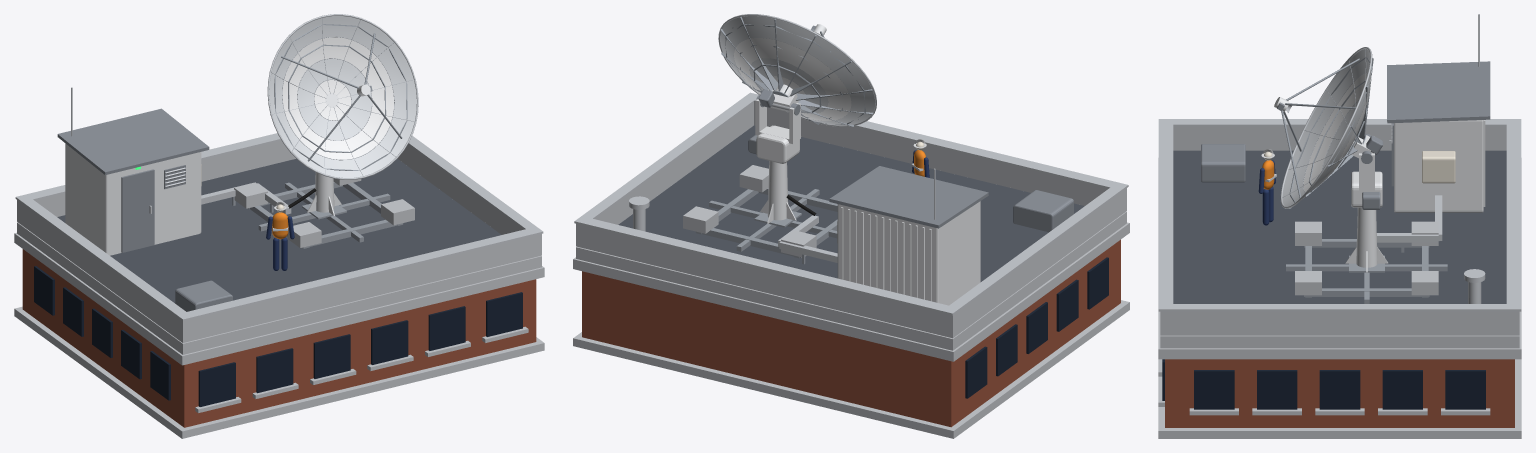
Rendered from ground-small.glb.
3 views of the same model, side by side, from view 1: azimuth 30°, elevation 25°; view 2: azimuth 150°, elevation 25°; view 3: azimuth 270°, elevation 25° (orthographic). The views are drawn at different scales.
Visible parts, largest first — view 1: roof-membrane, building-brick, parapet-concrete, building-concrete, building-window_dark, dish-surface-dish_white_alt, shed-walls, parapet-aluminium, dish-surface-dish_white, roof-slab, shed-roof, shed-door (+9 smaller); view 2: building-brick, parapet-concrete, roof-membrane, building-concrete, parapet-aluminium, shed-walls, roof-slab, dish-surface-dish_white_alt, shed-roof, building-window_dark, dish-surface-dish_white, shed-corrugation (+8 smaller); view 3: roof-membrane, building-brick, parapet-concrete, building-concrete, parapet-aluminium, building-window_dark, shed-walls, shed-roof, roof-slab, dish-surface-dish_white_alt, ballast-mount-steel_grey, ballast-mount-concrete (+11 smaller).
Boxes of the visible parts, x1,y1,x2,y2 form: roof-membrane: [57, 158, 501, 303]; building-brick: [22, 249, 536, 427]; parapet-concrete: [17, 140, 541, 342]; building-concrete: [14, 232, 544, 438]; building-window_dark: [34, 266, 522, 406]; dish-surface-dish_white_alt: [269, 16, 416, 177]; shed-walls: [65, 143, 201, 255]; parapet-aluminium: [15, 133, 543, 321]; dish-surface-dish_white: [282, 37, 394, 159]; roof-slab: [17, 222, 541, 354]; shed-roof: [57, 108, 209, 175]; shed-door: [121, 169, 154, 252]; building-brick: [582, 239, 1120, 427]; parapet-concrete: [576, 102, 1126, 338]; roof-membrane: [618, 125, 1084, 281]; building-concrete: [573, 222, 1129, 438]; parapet-aluminium: [574, 92, 1128, 315]; shed-walls: [837, 201, 980, 305]; roof-slab: [576, 211, 1126, 350]; dish-surface-dish_white_alt: [720, 16, 875, 125]; shed-roof: [829, 166, 988, 228]; building-window_dark: [965, 257, 1108, 398]; dish-surface-dish_white: [734, 38, 851, 120]; shed-corrugation: [841, 207, 931, 301]; roof-membrane: [1173, 150, 1506, 303]; building-brick: [1165, 359, 1514, 427]; parapet-concrete: [1160, 126, 1519, 335]; building-concrete: [1158, 158, 1521, 438]; parapet-aluminium: [1158, 119, 1521, 311]; building-window_dark: [1162, 359, 1485, 409]; shed-walls: [1394, 120, 1483, 212]; shed-roof: [1387, 61, 1490, 123]; roof-slab: [1160, 335, 1519, 348]; dish-surface-dish_white_alt: [1282, 49, 1371, 206]; ballast-mount-steel_grey: [1286, 239, 1447, 303]; ballast-mount-concrete: [1295, 221, 1438, 295].
Bounding box in the file's own units: 10.1 × 7.79 × 8.1.
